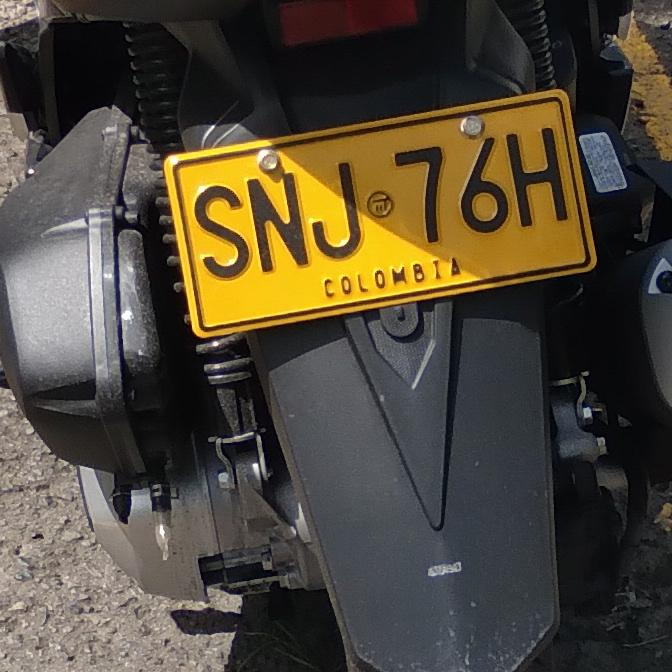plates: (161, 86, 601, 345)
